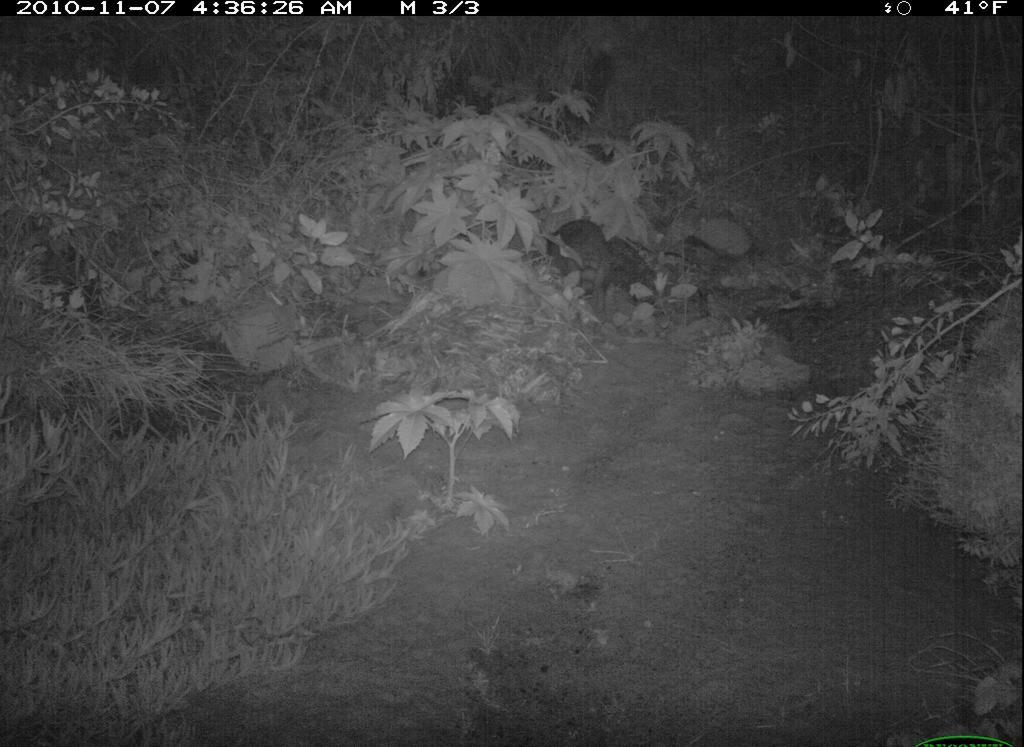raccoon: (537, 212, 623, 330)
